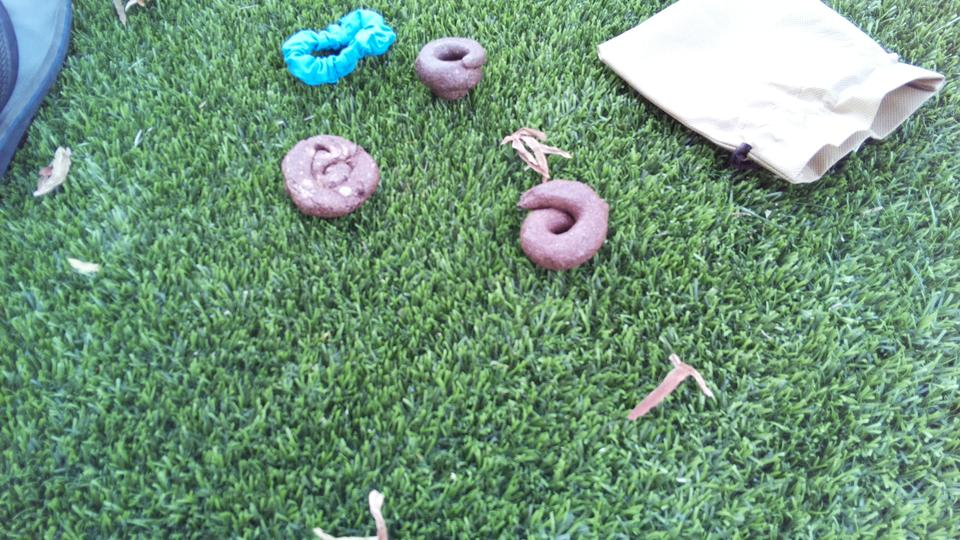poop: (269, 131, 386, 223), (510, 176, 613, 272), (413, 32, 489, 107)
